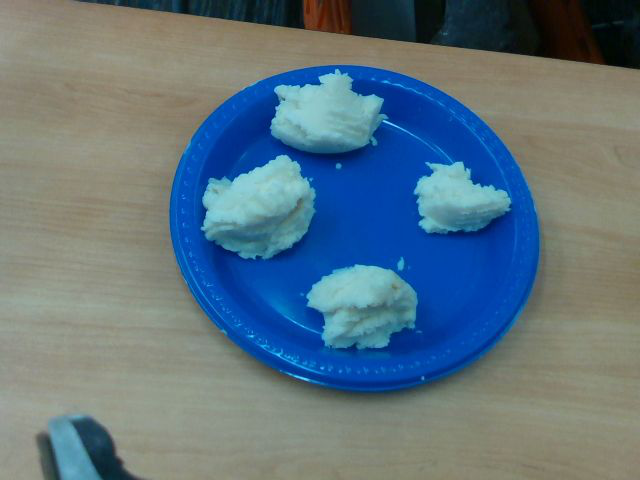mashed_potato: (201, 155, 316, 259), (271, 69, 388, 154), (306, 264, 418, 349), (413, 161, 511, 234)
